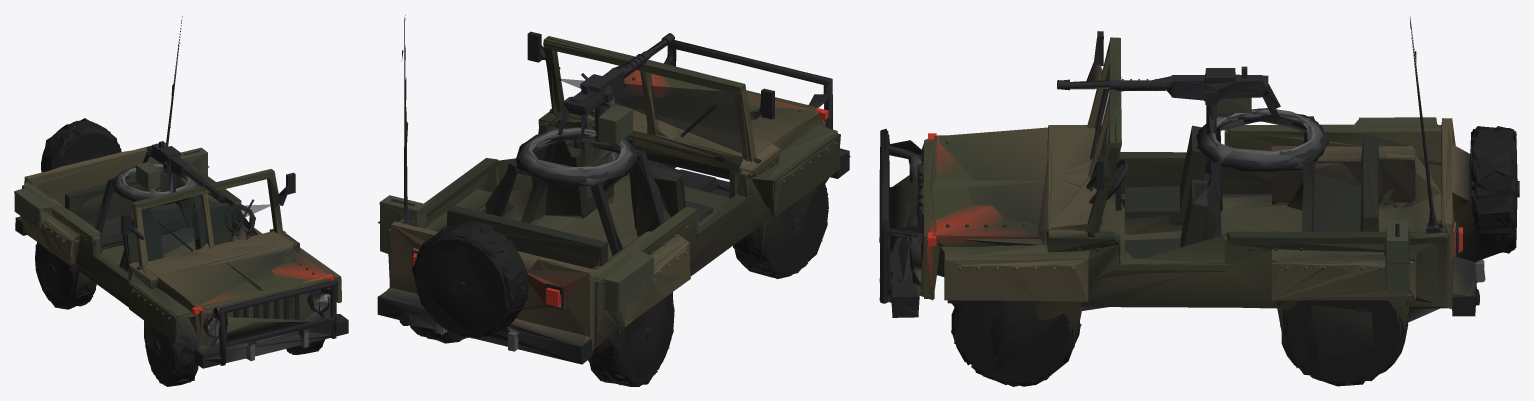
File: mutt.glb
3 views of the same model, side by side, from view 1: azimuth 30°, elevation 25°; view 2: azimuth 150°, elevation 25°; view 3: azimuth 270°, elevation 25° (orthographic). The views are drawn at different scales.
Visible parts, largest first — view 1: L1_03_hull_opaque, L2_04_hull_opaque, L0_01_hull_opaque, L0_00_hull_glass, L1_02_hull_glass; view 2: L1_03_hull_opaque, L2_04_hull_opaque, L0_01_hull_opaque, L0_00_hull_glass, L1_02_hull_glass; view 3: L1_03_hull_opaque, L2_04_hull_opaque, L0_01_hull_opaque.
Part boxes in pixels (box(x1,y1,x2,y2)): L1_03_hull_opaque: box(14, 16, 348, 386); L2_04_hull_opaque: box(20, 43, 347, 385); L0_01_hull_opaque: box(14, 17, 347, 385); L0_00_hull_glass: box(141, 204, 271, 260); L1_02_hull_glass: box(141, 204, 271, 260); L1_03_hull_opaque: box(377, 33, 849, 386); L2_04_hull_opaque: box(379, 37, 850, 385); L0_01_hull_opaque: box(377, 15, 849, 385); L0_00_hull_glass: box(559, 79, 741, 153); L1_02_hull_glass: box(559, 79, 741, 152); L1_03_hull_opaque: box(879, 17, 1517, 386); L2_04_hull_opaque: box(883, 51, 1515, 386); L0_01_hull_opaque: box(880, 22, 1519, 385).
Bounding box in the file's own units: 2.14 × 2.75 × 4.27.
